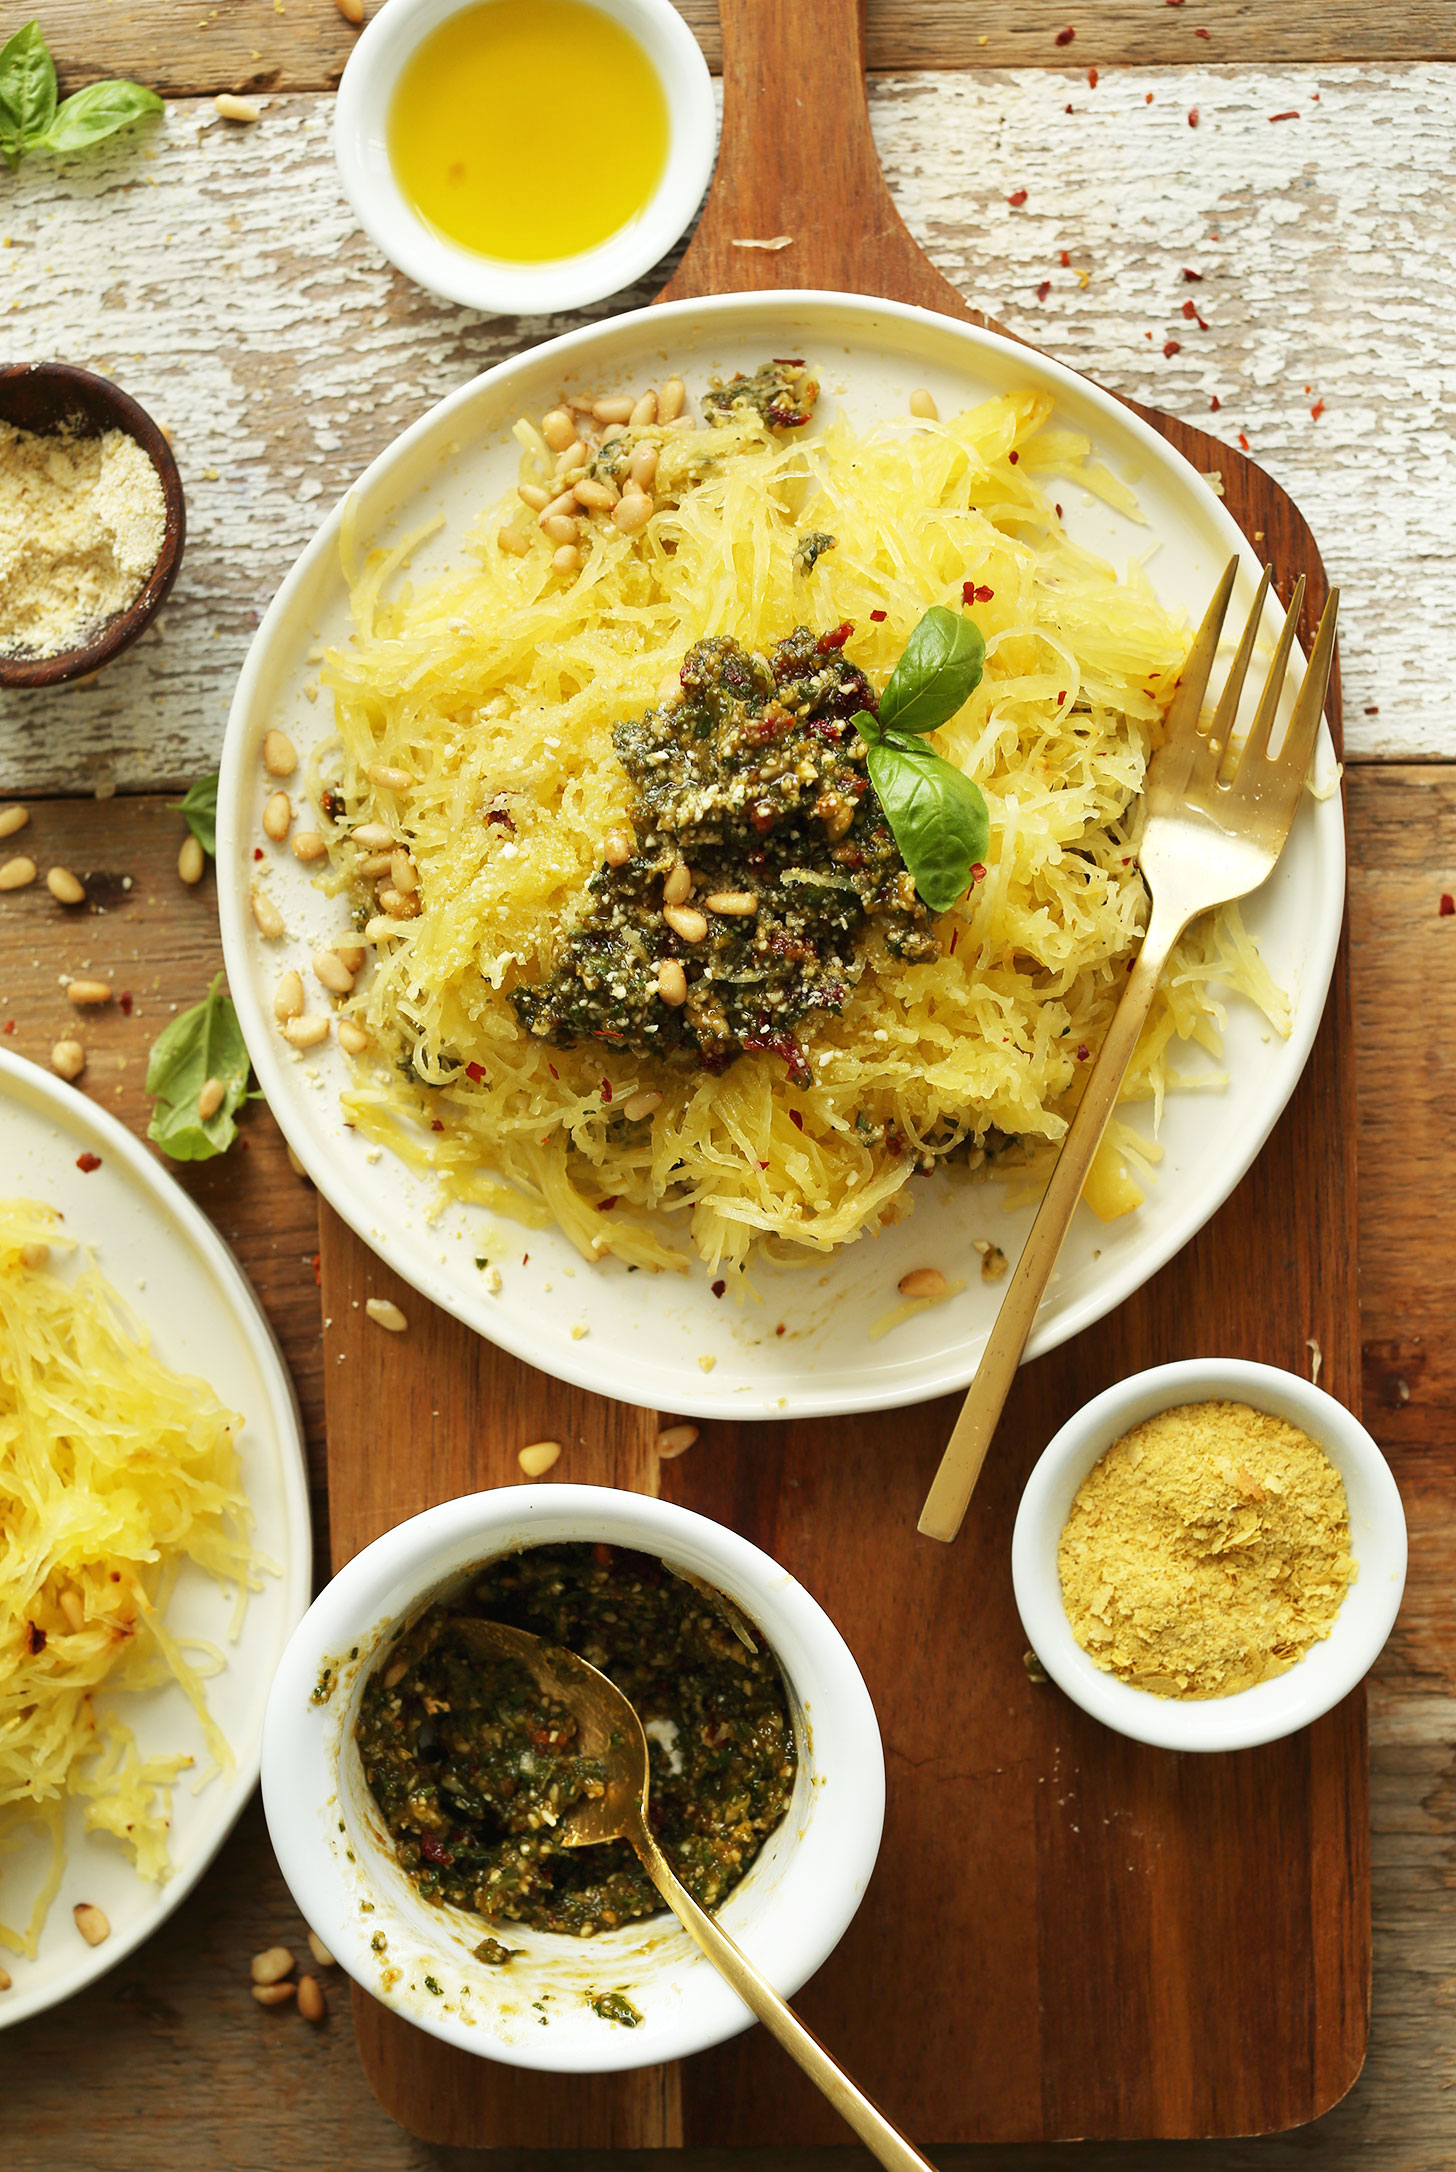plain spaghetti: (310, 408, 1154, 1246)
